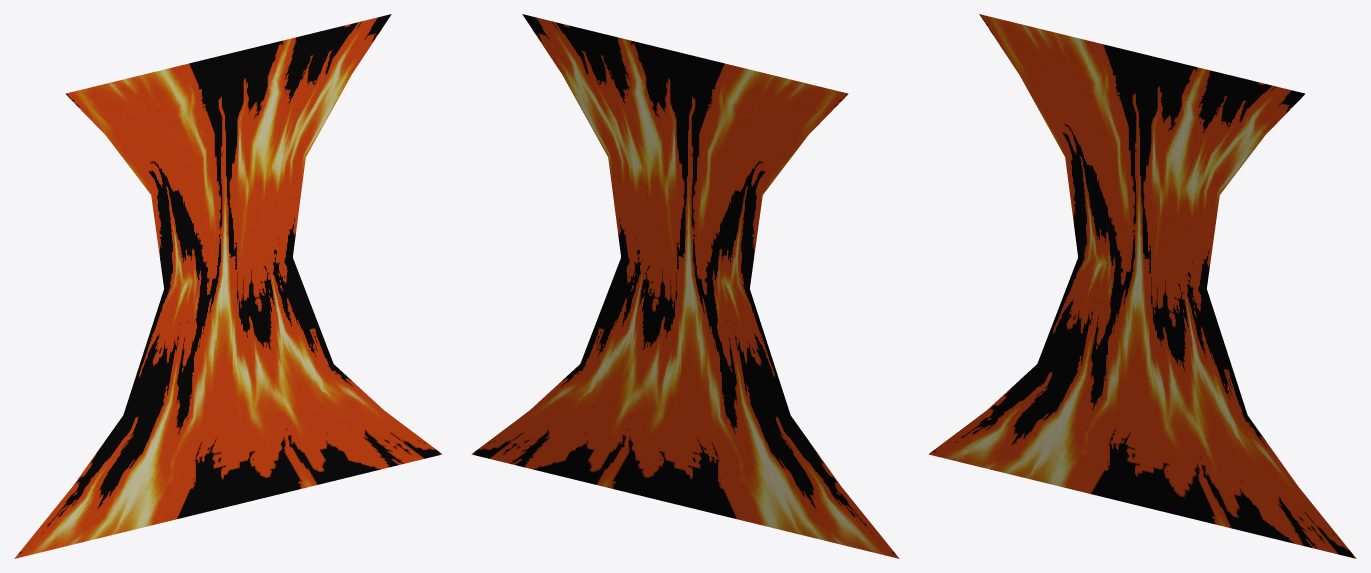
The model's file is longjuanfeng_01.FBX.
The picture shows the model from 3 angles, left to right: view 1: azimuth 30°, elevation 25°; view 2: azimuth 150°, elevation 25°; view 3: azimuth 330°, elevation 25°; orthographic projection.
Visible parts, largest first — view 1: Plane001; view 2: Plane001; view 3: Plane001.
Part boxes in pixels (bbox=[...]): Plane001: bbox=[14, 14, 442, 558]; Plane001: bbox=[471, 14, 899, 558]; Plane001: bbox=[928, 14, 1356, 558].
Bounding box in the file's own units: 97.19 × 98.12 × 4.42e-06.
